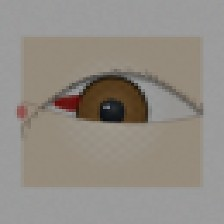hemorrhage_spot: (40, 66, 134, 141)
